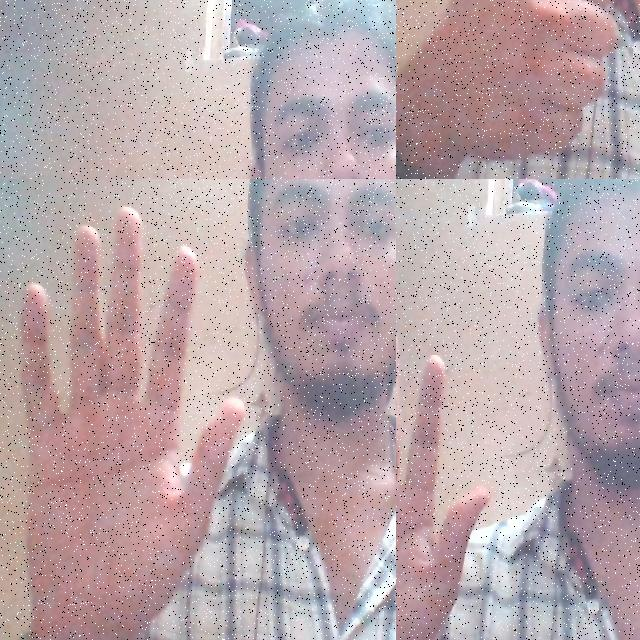Hello: (0, 196, 255, 640), (396, 312, 506, 640)
Yes: (436, 0, 627, 166)
